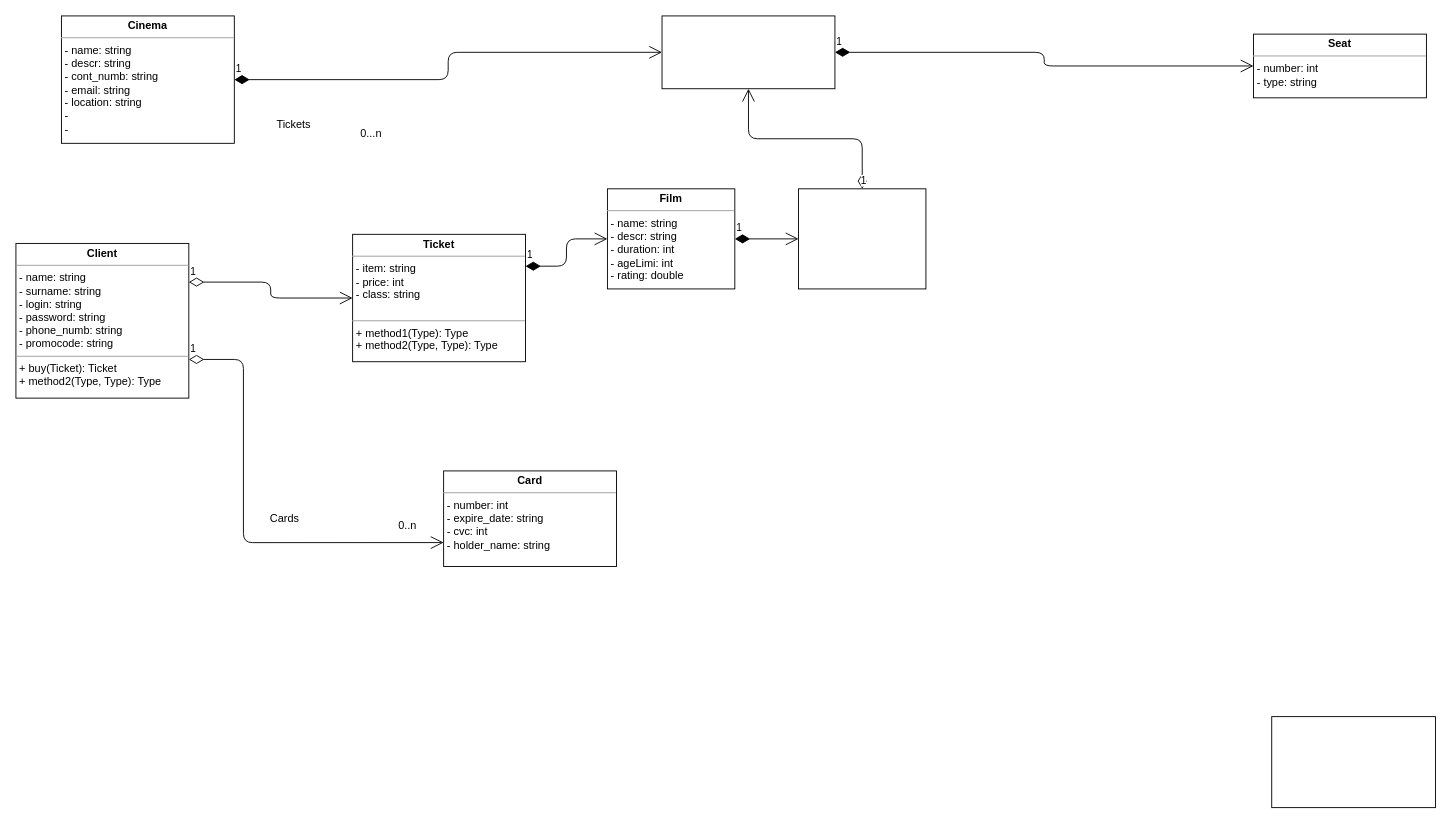
This 1451x824 diagram has some shape labels left out. The shapes that lost their labels are listed below. From the top down, each one's centre as x and y in pixels, then its label:
At point (748, 52): "Hall - number: int - capacity: int - type: string".
At point (862, 238): "Session - date: string".
At point (1353, 762): "Menu - name: string - Search(string): string - EnterAccount(string, string):".
